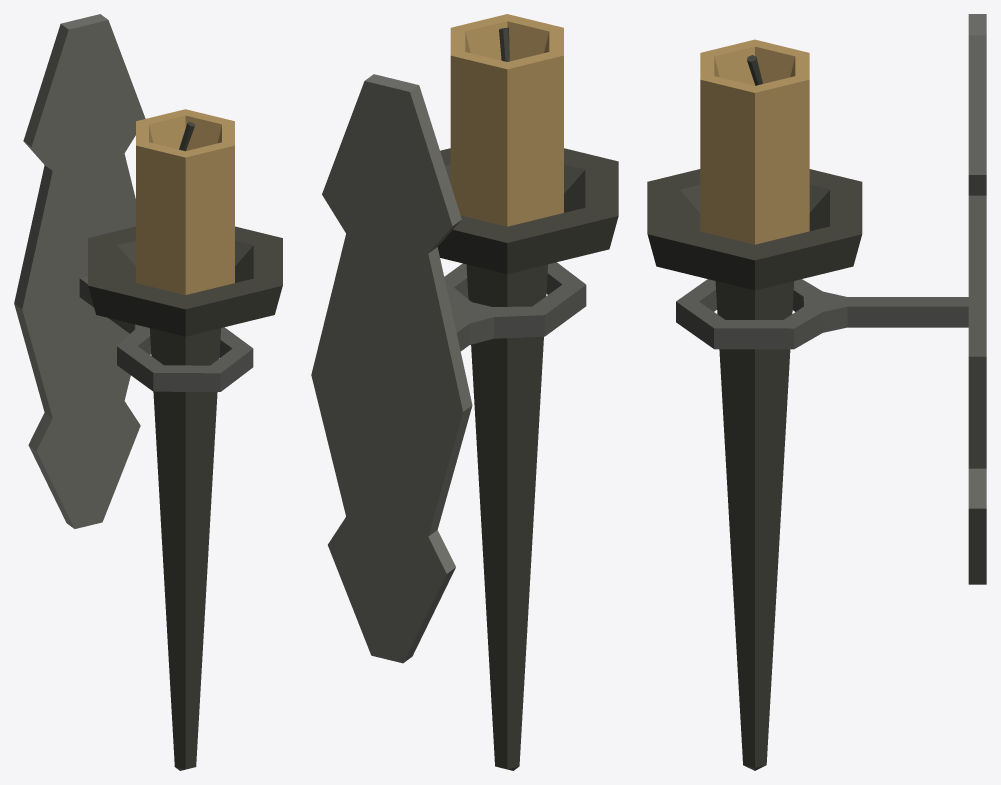
File: Candlestick_Wall.glb
The picture shows the model from 3 angles, left to right: view 1: azimuth 30°, elevation 25°; view 2: azimuth 150°, elevation 25°; view 3: azimuth 270°, elevation 25°; orthographic projection. The views are drawn at different scales.
Parts seen in each view (by area): view 1: Candlestick_Wall.001; view 2: Candlestick_Wall.001; view 3: Candlestick_Wall.001.
Part boxes in pixels (<box>): Candlestick_Wall.001: <box>14,14,282,770</box>; Candlestick_Wall.001: <box>311,14,618,770</box>; Candlestick_Wall.001: <box>647,14,986,770</box>.
Bounding box in the file's own units: 0.2777 × 0.9182 × 0.3795.
2 materials, 2 textured.
